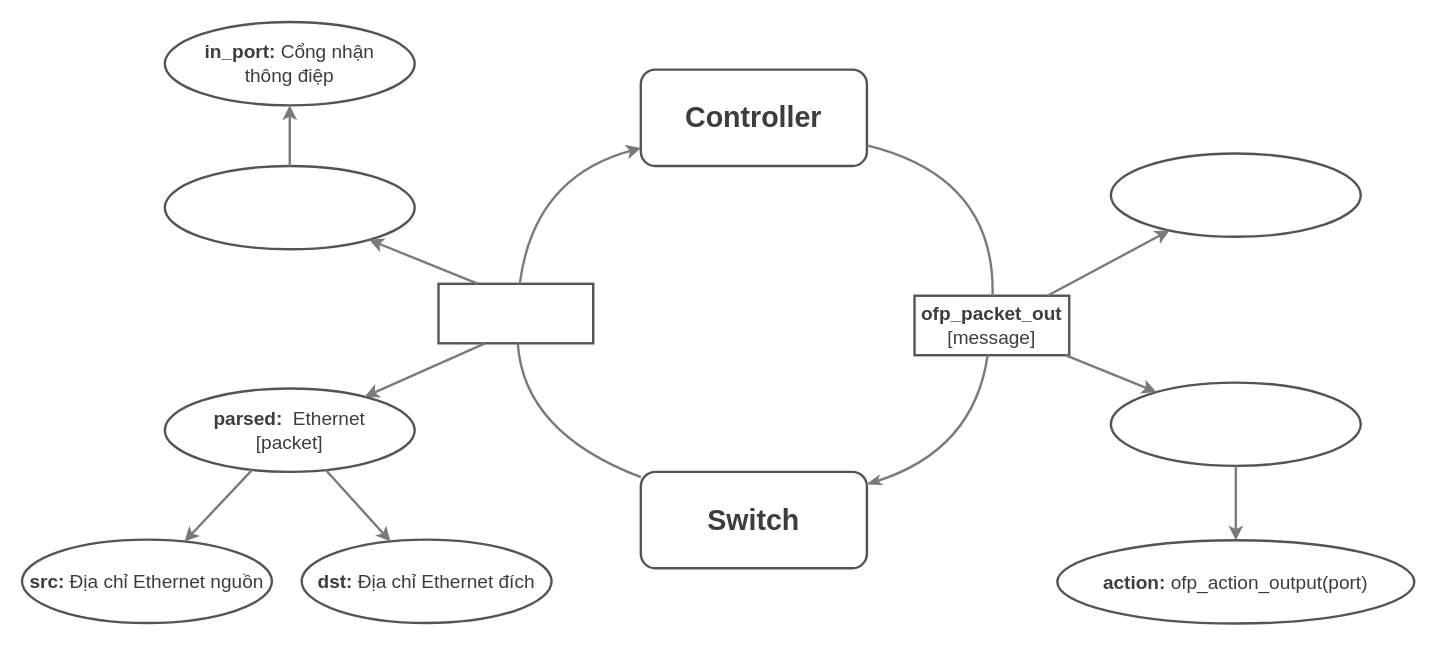
Image size: 1435x645. Some labels were removed from this diagram. The shapes that lost their labels are listed below. From the top down, each one's centre as x and y in pixels, then its label:
At [289,207]: "ofp: ofp_packet_in [message]".
At [1235,194]: "data: ofp_packet_in [message]".
At [515,313]: "PacketIn [Event]".
At [1235,423]: "actions: list<action>".
